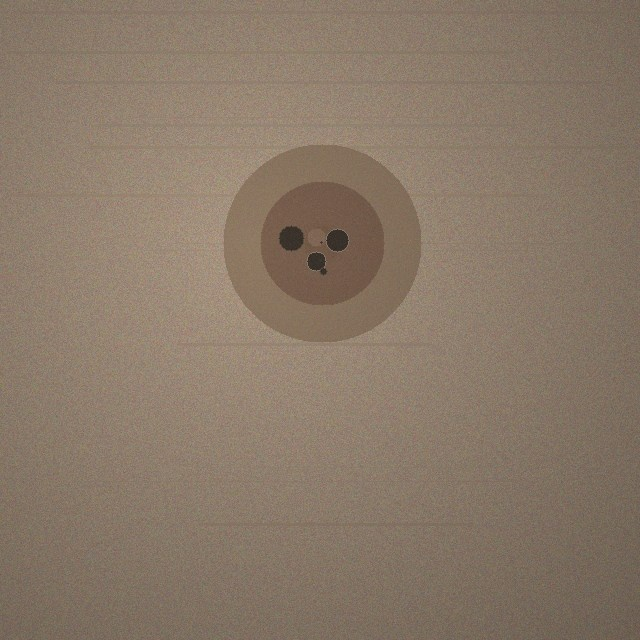shrinkage: (223, 144, 421, 342)
